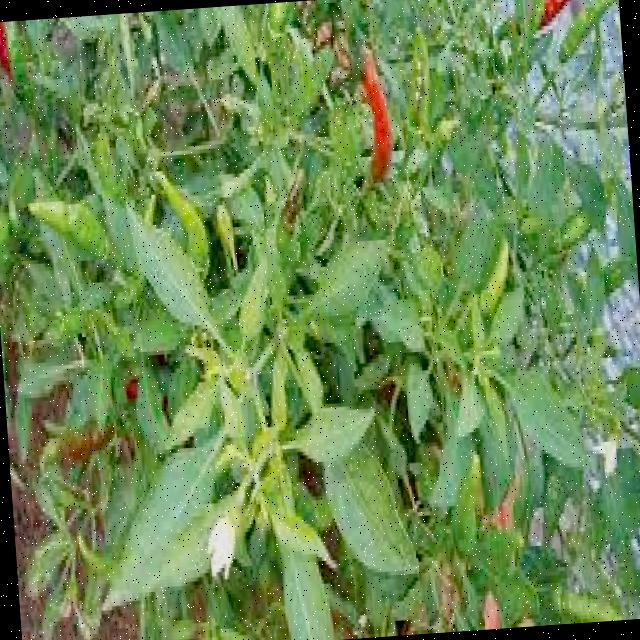healthy: (64, 189, 461, 640)
